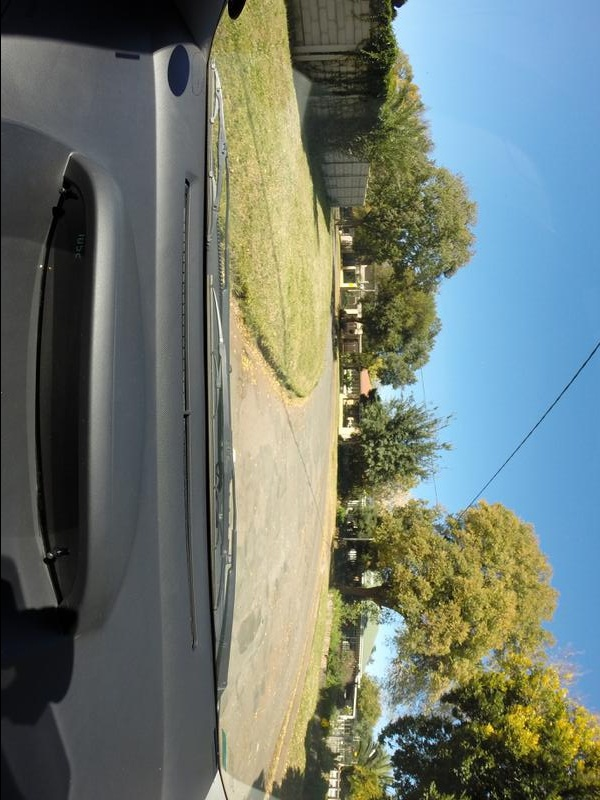pothole: (236, 347, 253, 396)
